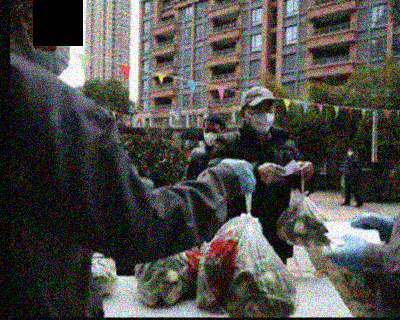with_mask: (31, 22, 79, 75), (248, 103, 276, 135), (202, 127, 222, 147), (346, 148, 354, 157)
